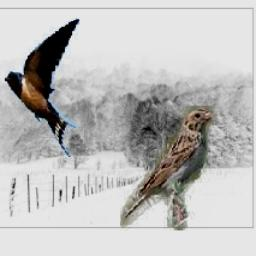Sparrow: (119, 106, 216, 230)
Swallow: (5, 19, 79, 158)
